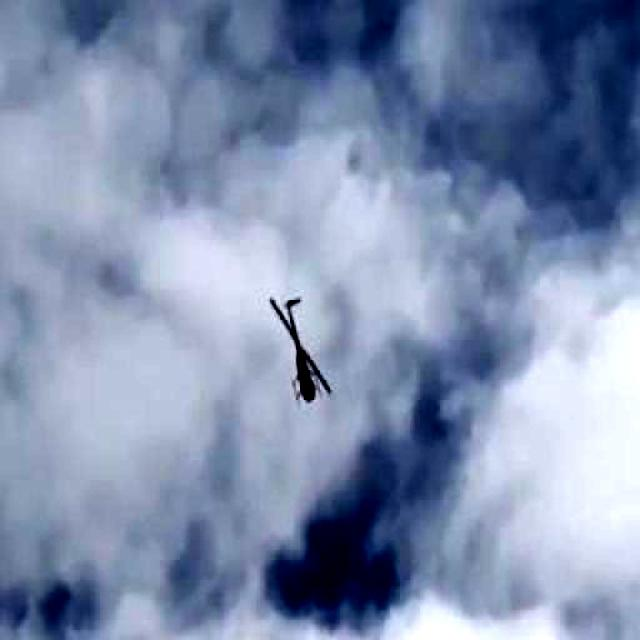drone: (226, 268, 380, 436)
